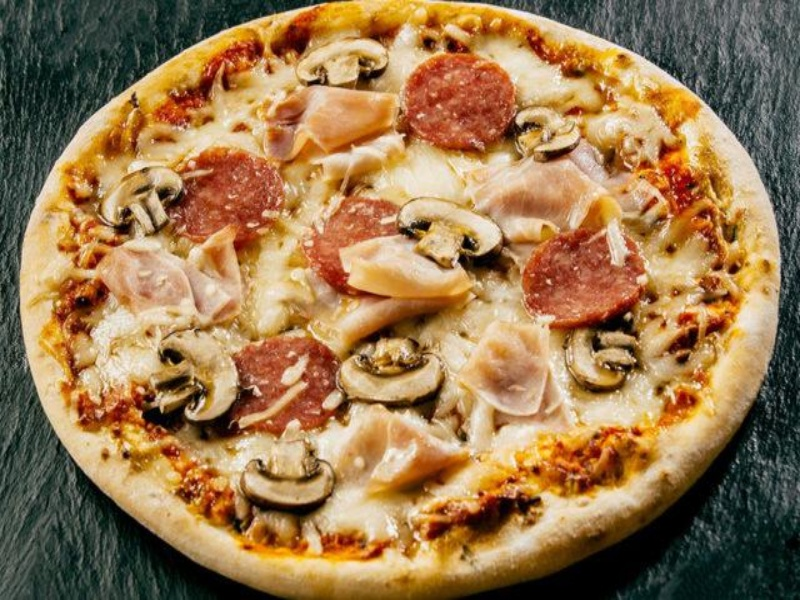champignon: (144, 331, 246, 427), (327, 334, 452, 405), (394, 194, 512, 268), (237, 433, 344, 513), (94, 164, 192, 239), (290, 33, 396, 96), (558, 320, 643, 397)
